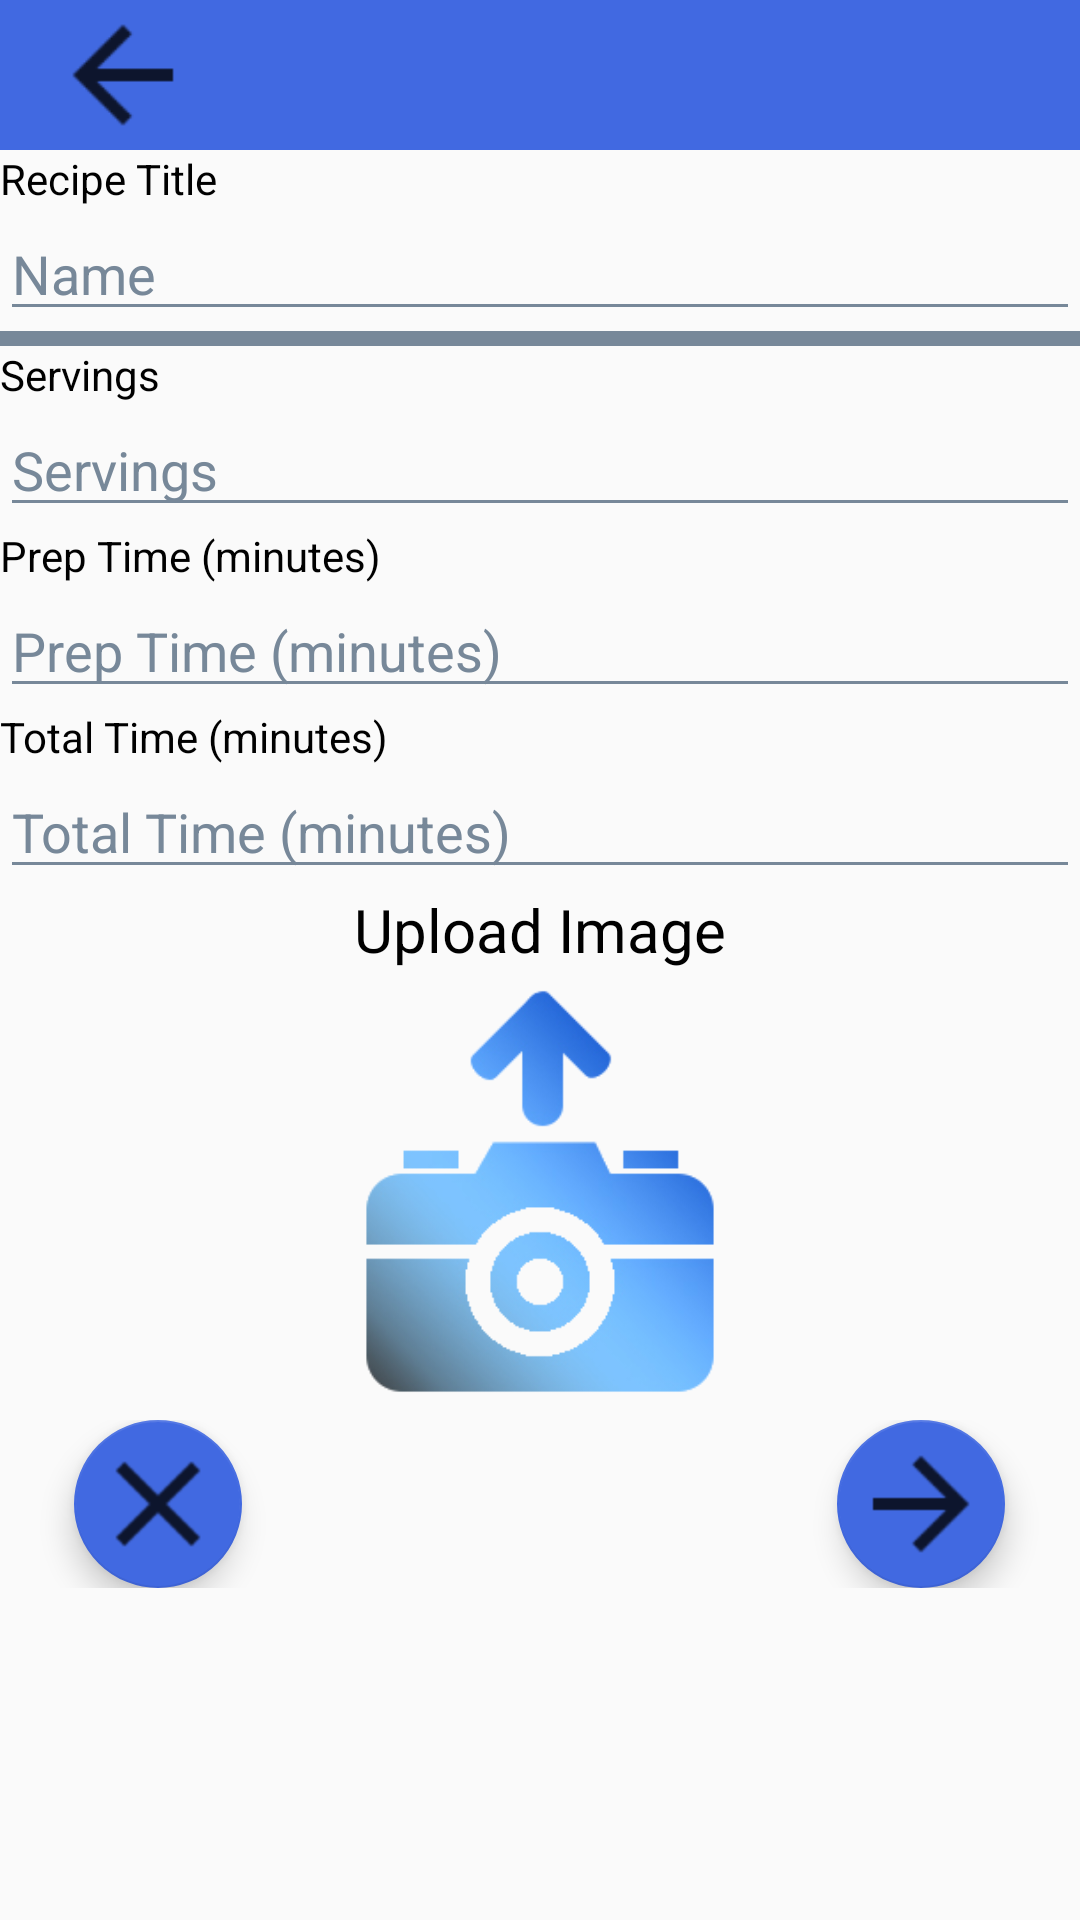

Point at icon controls on the screen. Image size 1080px x 1920px, points as (x,y).
arrow back: (123,75)
arrow right: (921,1504)
cancel: (158,1504)
